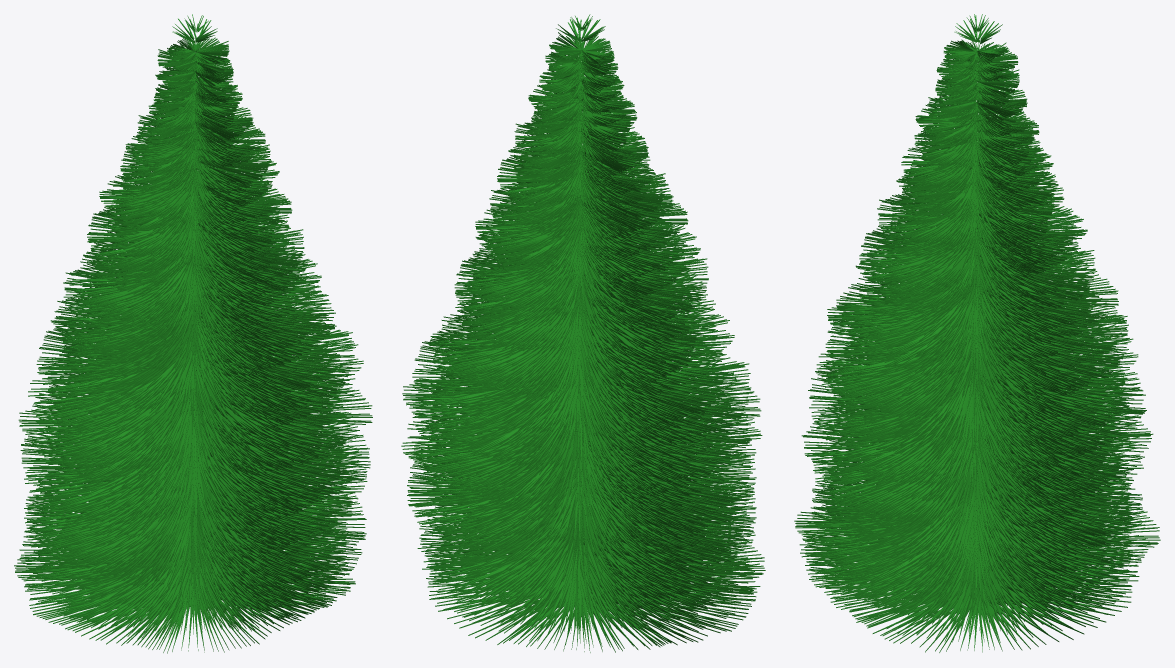
File: leaves.obj
3 renders of one model, left to right at view 1: azimuth 30°, elevation 25°; view 2: azimuth 150°, elevation 25°; view 3: azimuth 270°, elevation 25°, orthographic.
Parts seen in each view (by area): view 1: Cube (92), Cube (86), Cube (88), Cube (36), Cube (95), Cube (81), Cube (108), Cube (96), Cube (80), Cube (11), Cube (107), Cube (35) (+123 smaller); view 2: Cube (81), Cube (92), Cube (80), Cube (79), Cube (88), Cube (11), Cube (78), Cube (36), Cube (77), Cube (58), Cube (10), Cube (108) (+122 smaller); view 3: Cube (86), Cube (81), Cube (58), Cube (92), Cube (55), Cube (88), Cube (108), Cube (36), Cube (95), Cube (79), Cube (52), Cube (107) (+122 smaller).
Boxes of the visible parts, left/top/right/bottom form: Cube (92): left=21, top=48, right=369, bottom=632; Cube (86): left=21, top=45, right=368, bottom=627; Cube (88): left=15, top=45, right=372, bottom=626; Cube (36): left=19, top=41, right=365, bottom=644; Cube (95): left=23, top=50, right=363, bottom=640; Cube (81): left=17, top=44, right=372, bottom=620; Cube (108): left=25, top=44, right=366, bottom=650; Cube (96): left=19, top=51, right=363, bottom=644; Cube (80): left=14, top=55, right=372, bottom=624; Cube (11): left=25, top=20, right=366, bottom=608; Cube (107): left=26, top=45, right=365, bottom=650; Cube (35): left=23, top=54, right=366, bottom=639; Cube (81): left=401, top=41, right=762, bottom=645; Cube (92): left=410, top=34, right=755, bottom=626; Cube (80): left=402, top=41, right=765, bottom=645; Cube (79): left=402, top=41, right=760, bottom=645; Cube (88): left=403, top=38, right=764, bottom=637; Cube (11): left=407, top=24, right=756, bottom=647; Cube (78): left=402, top=41, right=762, bottom=645; Cube (36): left=408, top=32, right=759, bottom=606; Cube (77): left=407, top=38, right=755, bottom=648; Cube (58): left=423, top=51, right=739, bottom=638; Cube (10): left=405, top=19, right=763, bottom=642; Cube (108): left=412, top=42, right=750, bottom=597; Cube (86): left=801, top=51, right=1153, bottom=566; Cube (81): left=797, top=51, right=1157, bottom=570; Cube (58): left=823, top=42, right=1131, bottom=623; Cube (92): left=807, top=53, right=1147, bottom=565; Cube (55): left=825, top=41, right=1130, bottom=628; Cube (88): left=795, top=52, right=1159, bottom=569; Cube (108): left=805, top=53, right=1145, bottom=588; Cube (36): left=800, top=42, right=1153, bottom=569; Cube (95): left=803, top=52, right=1142, bottom=560; Cube (79): left=800, top=52, right=1154, bottom=569; Cube (52): left=834, top=44, right=1120, bottom=642; Cube (107): left=806, top=52, right=1143, bottom=585.
Bounding box in the file's own units: 16.73 × 28.91 × 16.8.
